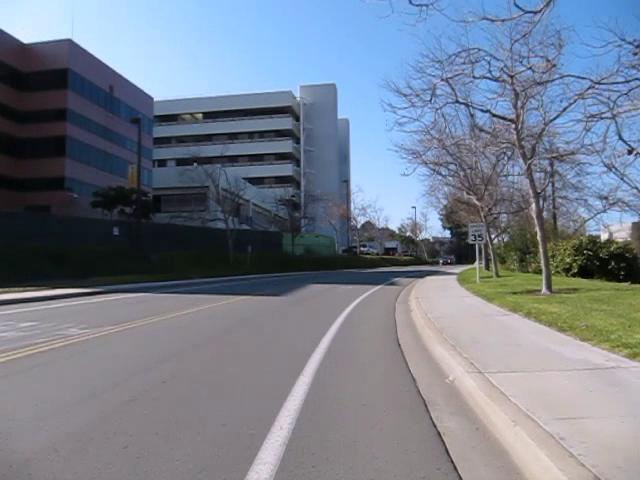speedLimit35: (467, 220, 486, 244)
